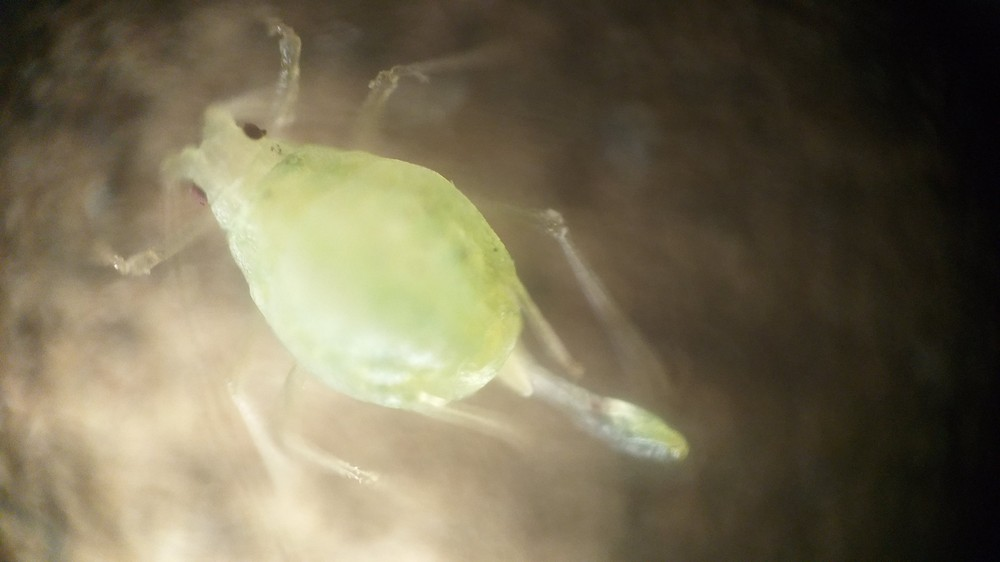Pulgon: (74, 17, 754, 517)
